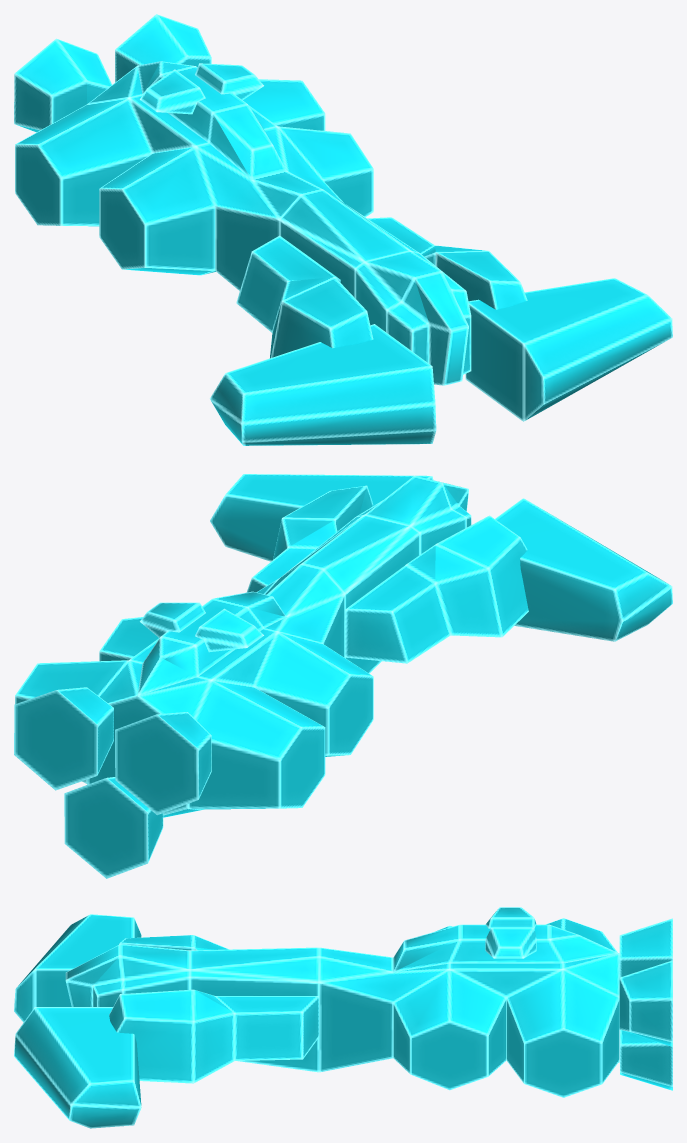
File: ally_frigate.FBX
3 views of the same model, one above another, from view 1: azimuth 30°, elevation 25°; view 2: azimuth 150°, elevation 25°; view 3: azimuth 270°, elevation 25° (orthographic). The views are drawn at different scales.
Parts seen in each view (by area): view 1: Frigate_player; view 2: Frigate_player; view 3: Frigate_player.
Boxes of the visible parts, x1,y1,x2,y2 form: Frigate_player: (14, 14, 672, 445); Frigate_player: (14, 474, 672, 878); Frigate_player: (14, 907, 672, 1128).
Size of the model in its own units: 97.96 by 42.58 by 151.
